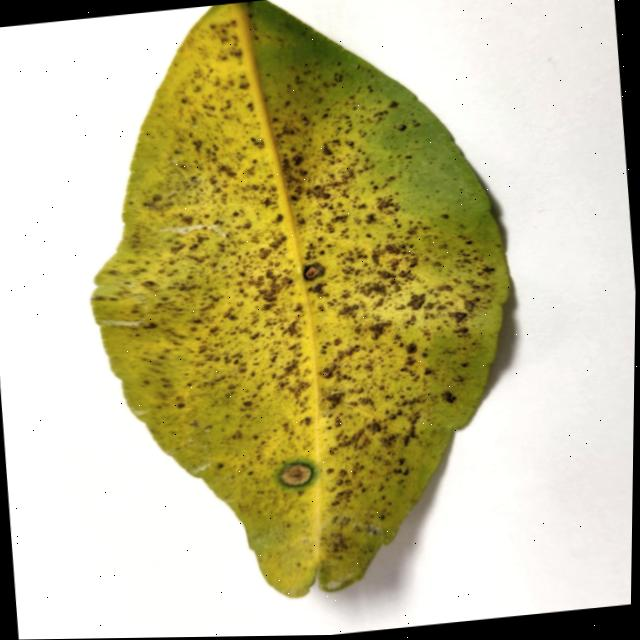melanose: (90, 0, 507, 597)
